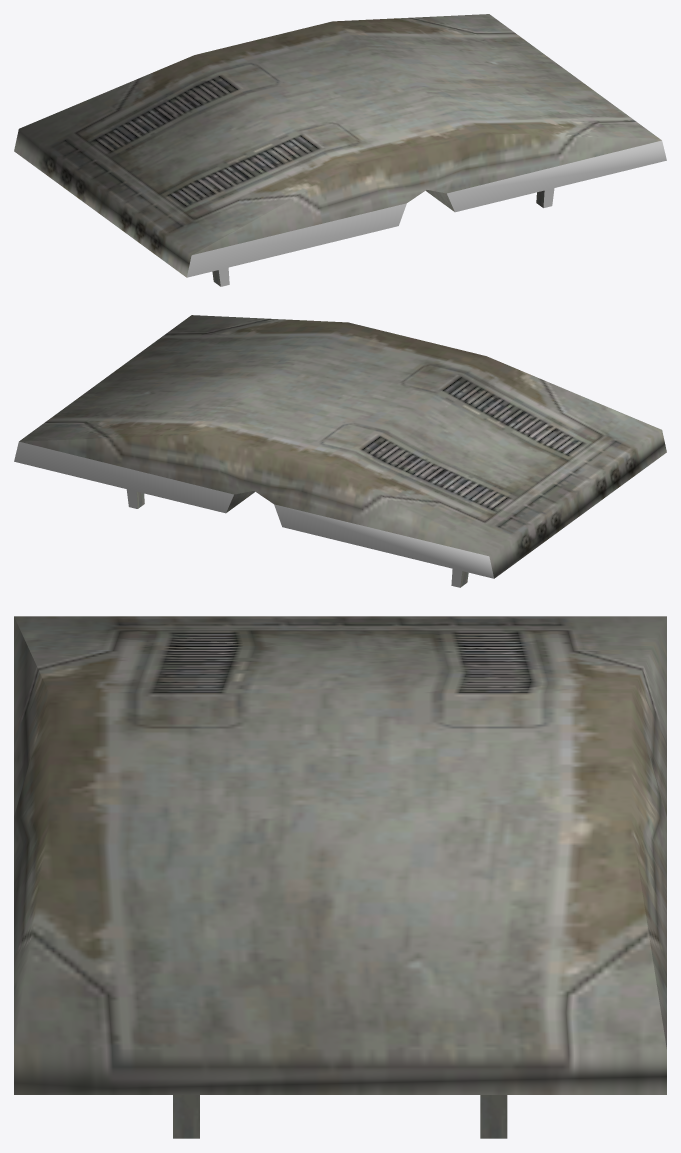
The model's file is ins_all_min_liquid_s01_u0_pedal_l1.fbx.
3 renders of one model, top to bottom at view 1: azimuth 30°, elevation 25°; view 2: azimuth 150°, elevation 25°; view 3: azimuth 270°, elevation 25°, orthographic. The views are drawn at different scales.
Visible parts, largest first — view 1: mesh_node; view 2: mesh_node; view 3: mesh_node.
Part boxes in pixels (x1=…): mesh_node: x1=14, y1=14, x2=666, y2=286; mesh_node: x1=14, y1=315, x2=666, y2=587; mesh_node: x1=14, y1=616, x2=666, y2=1138.
Bounding box in the file's own units: 6.95 × 1.66 × 4.33.
